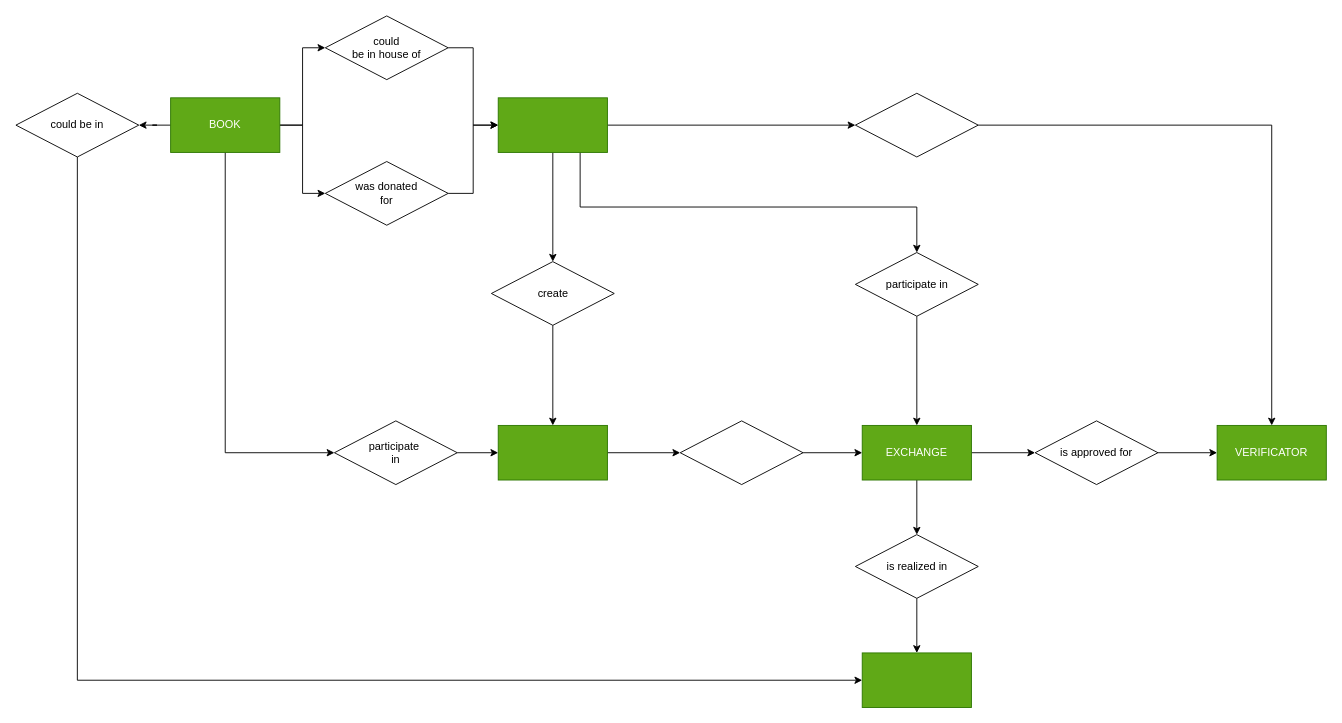
Some shapes in this 1342 by 723 pixel diagram are drawn without their labels. The shapes that lost their labels are listed below. From the top down, each one's centre as x and y in pixels, then its label:
the point at 552,124: USER
the point at 916,124: could be
the point at 552,452: ROTATION
the point at 741,452: has
the point at 916,680: EXCHANGE POINT
